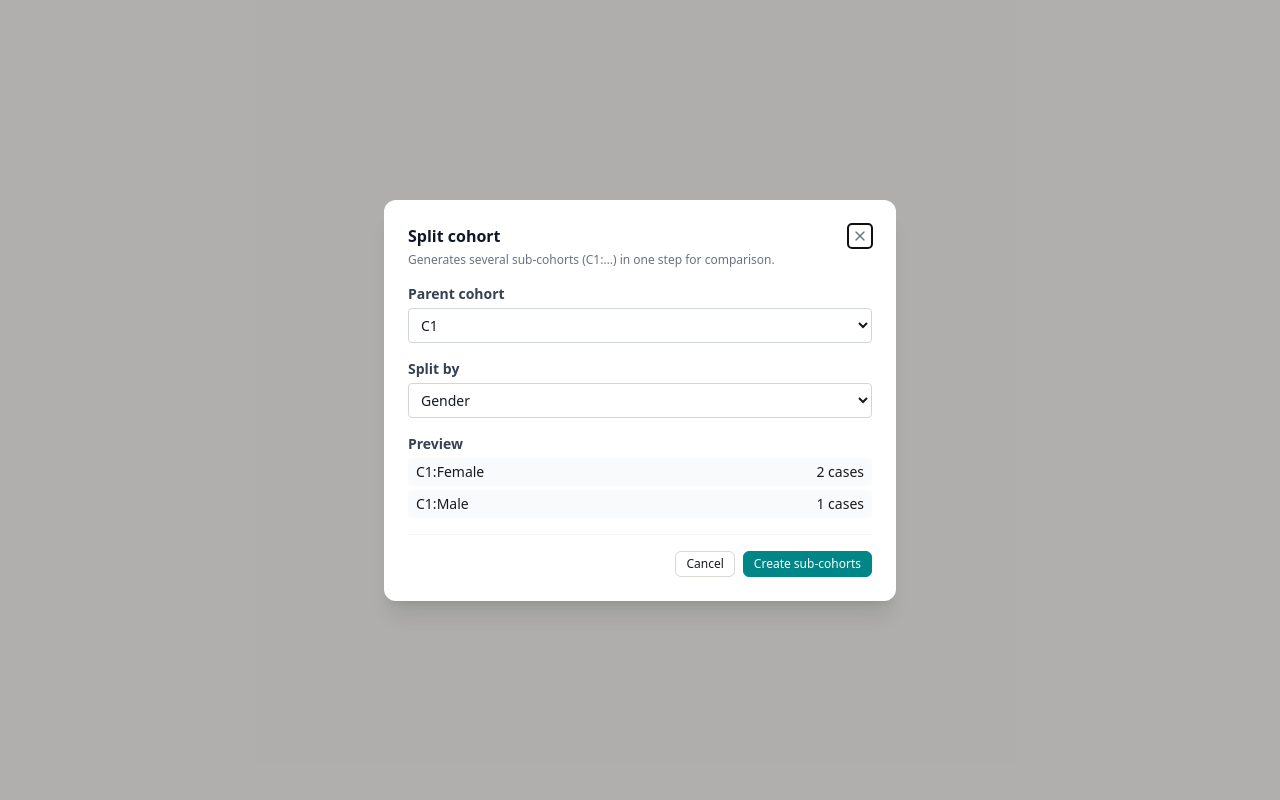
Scenario: CohortSplitDialog › switching to age + custom cut points previews 3 bins
This screenshot has width=1280, height=800.
// Switch attribute to age
Select "Age" in the dropdown named "Split by" at (640, 400), box [408,382,872,418]
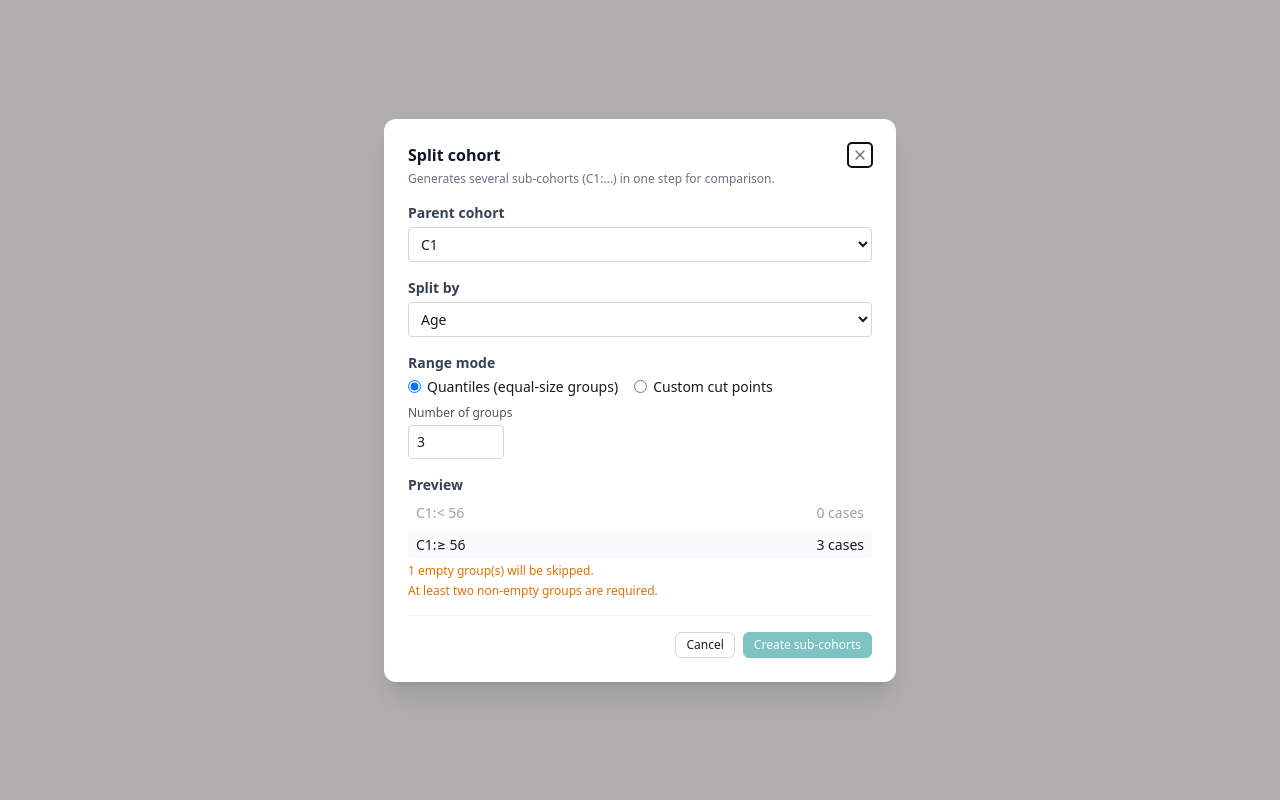
// Choose custom cut points mode
Click the radio button labelled "Custom cut points" at (641, 386), box [634,380,647,393]
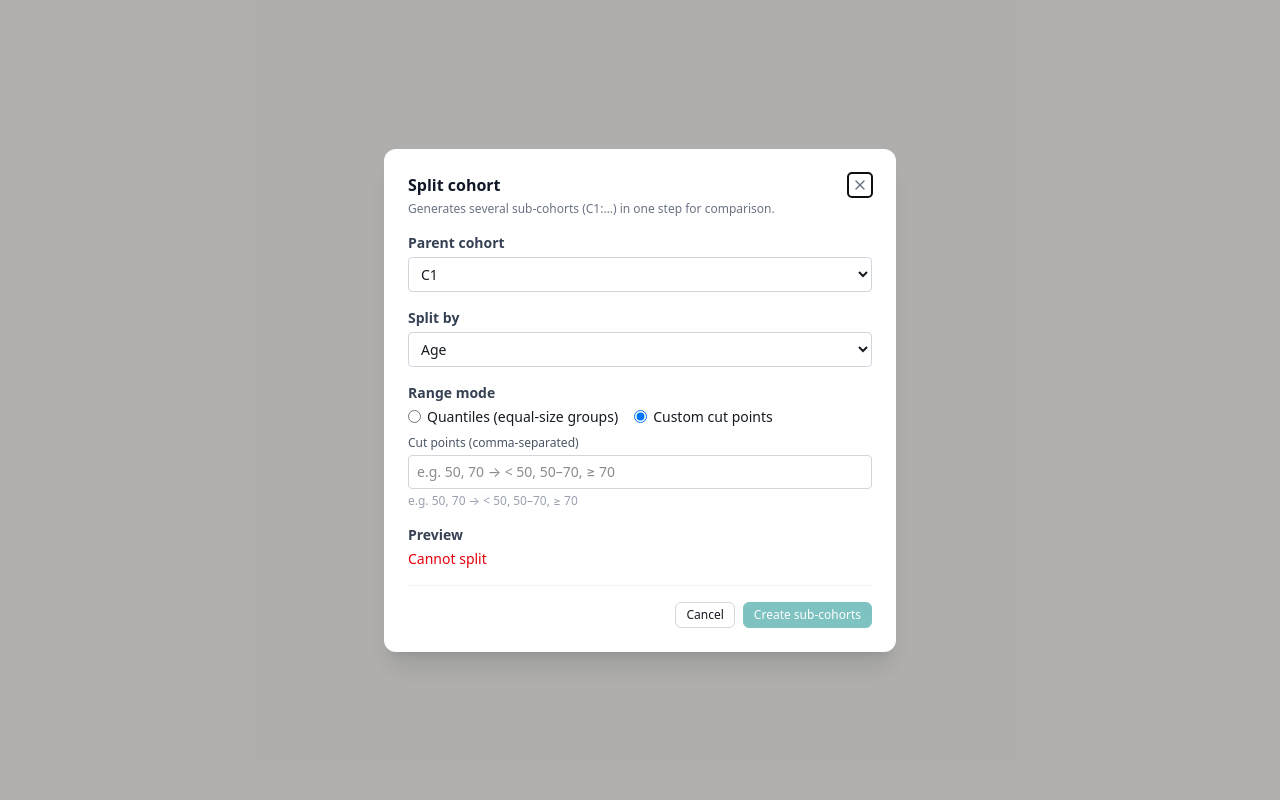
Type "50, 70" into the field named "Cut points (comma-separated)" at (640, 472), box [408,454,872,488]
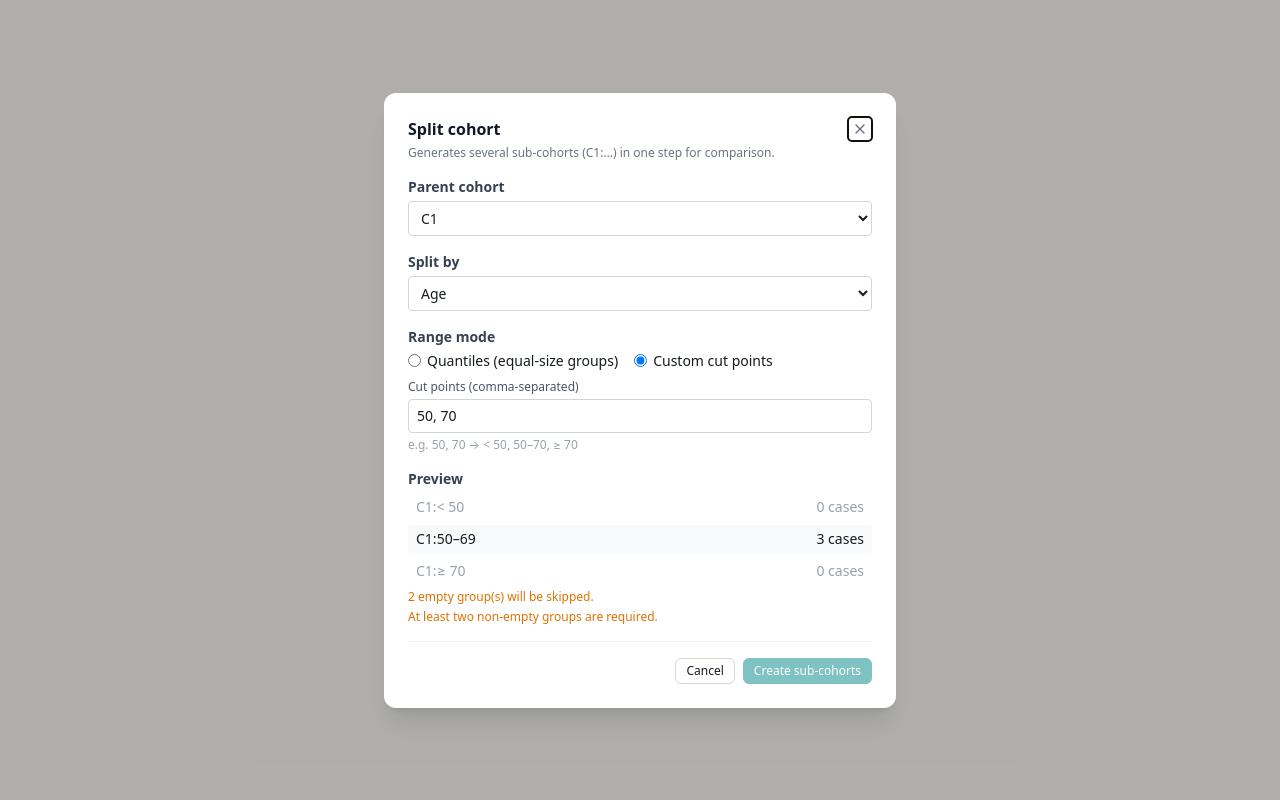
Result: the text "C1:50–69" is shown at [416,528,476,548]
